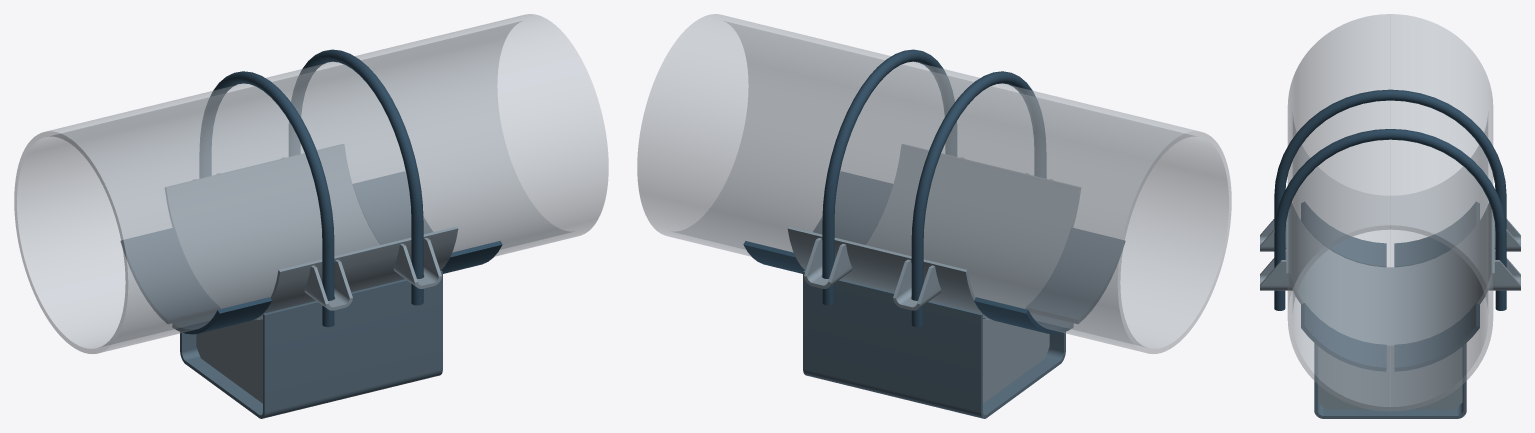
Rendered from TS-670.00.00-28-opora-dn377-H150.glb.
The picture shows the model from 3 angles, left to right: view 1: azimuth 30°, elevation 25°; view 2: azimuth 150°, elevation 25°; view 3: azimuth 270°, elevation 25°; orthographic projection. The views are drawn at different scales.
Visible parts, largest first — view 1: truba, podushka_0, skoba_1, upor_-1_1, homut_-1, homut_1, rebro_2, upor_1_1, upor_-1_-1, ushko_6, ushko_8, upor_1_-1; view 2: truba, podushka_0, skoba_1, upor_-1_-1, homut_-1, homut_1, rebro_2, upor_1_-1, upor_-1_1, ushko_5, ushko_7, upor_1_1; view 3: truba, podushka_0, rebro_4, homut_1, homut_-1, upor_1_1, upor_1_-1, skoba_1, upor_-1_1, upor_-1_-1, ushko_5, ushko_6 (+2 smaller).
Part boxes in pixels (x1,y1,x2,y2): truba: (14,14,608,353); podushka_0: (165,144,458,320); skoba_1: (180,270,442,418); upor_-1_1: (120,227,219,323); homut_-1: (199,71,334,327); homut_1: (289,49,423,305); rebro_2: (196,318,262,403); upor_1_1: (353,171,432,244); upor_-1_-1: (172,297,271,334); ushko_6: (393,238,441,288); ushko_8: (304,259,352,310); upor_1_-1: (441,241,502,273); truba: (637,14,1231,353); podushka_0: (787,144,1080,320); skoba_1: (803,270,1065,418); upor_-1_-1: (1026,227,1125,323); homut_-1: (911,71,1046,327); homut_1: (822,49,956,305); rebro_2: (983,318,1049,403); upor_1_-1: (813,171,892,244); upor_-1_1: (974,297,1073,334); ushko_5: (804,238,852,288); ushko_7: (893,259,941,310); upor_1_1: (743,241,804,273); truba: (1287,14,1493,411); podushka_0: (1286,202,1494,348); rebro_4: (1318,346,1462,409); homut_1: (1274,129,1506,310); homut_-1: (1274,89,1506,228); upor_1_1: (1394,303,1479,371); upor_1_-1: (1301,303,1386,371); skoba_1: (1314,343,1466,418); upor_-1_1: (1394,202,1479,267); upor_-1_-1: (1301,202,1386,267); ushko_5: (1488,249,1520,290); ushko_6: (1260,249,1292,290).
Size of the model in its own units: 917 by 547 by 479.
